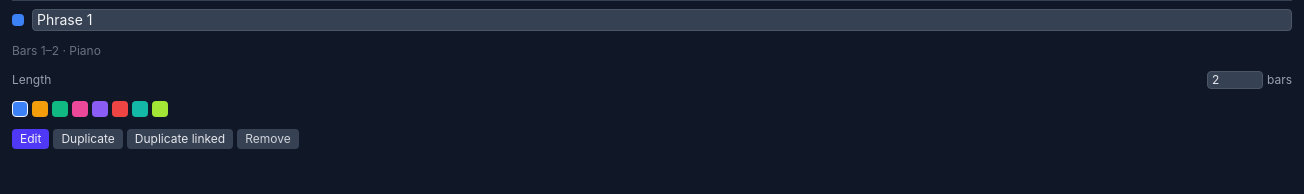
it: PhraseInspector › duplicates it linked, sharing the one phrase, and then offers Make unique
Click the button with test id "link-clip": (180, 139) x1=127 y1=129 x2=233 y2=149
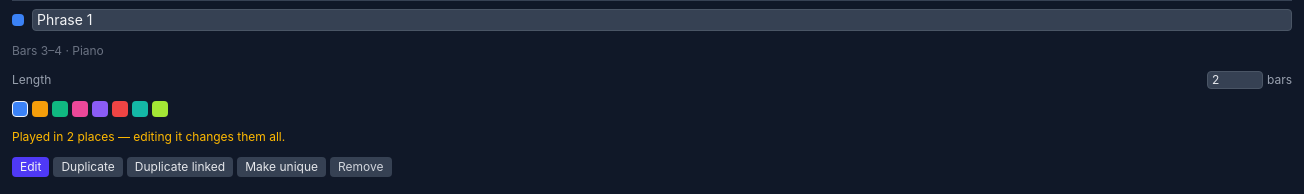
Expected: the text with test id "phrase-placements" shows "2 places", x1=12 y1=129 x2=285 y2=144
Expected: the button with test id "make-unique" is shown, x1=237 y1=157 x2=326 y2=177
